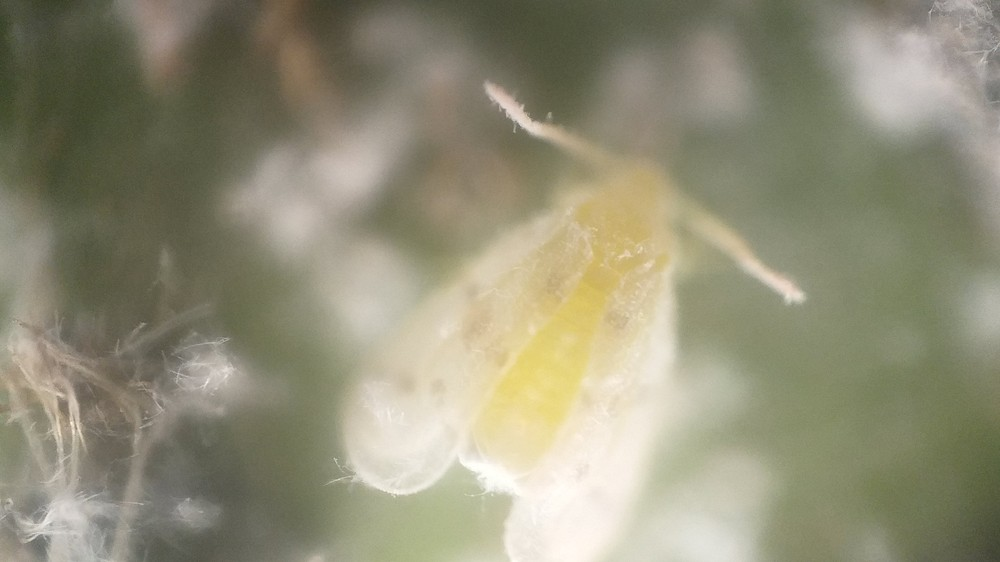Mosca Blanca: (326, 66, 816, 562)
